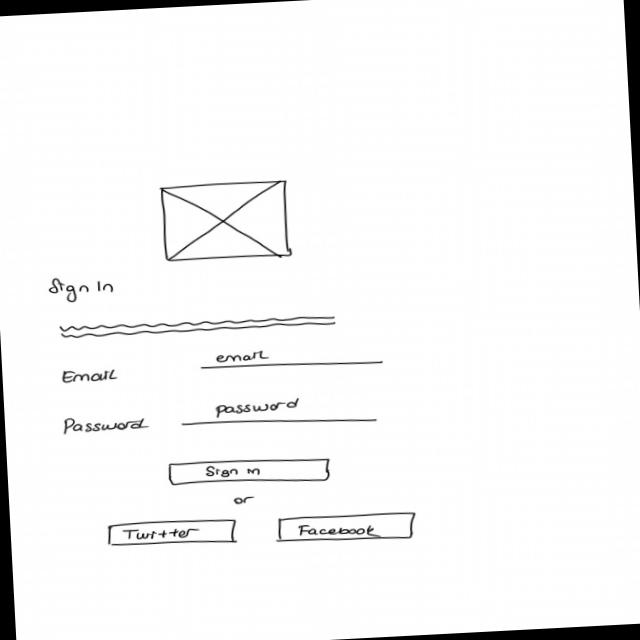button: (168, 454, 332, 492), (274, 511, 416, 546), (105, 516, 238, 548)
image: (158, 178, 294, 264)
input: (180, 392, 380, 434), (198, 342, 386, 375)
label: (46, 274, 118, 304), (60, 414, 148, 436), (58, 365, 122, 384), (230, 493, 258, 504)
textbox: (57, 310, 341, 342)
